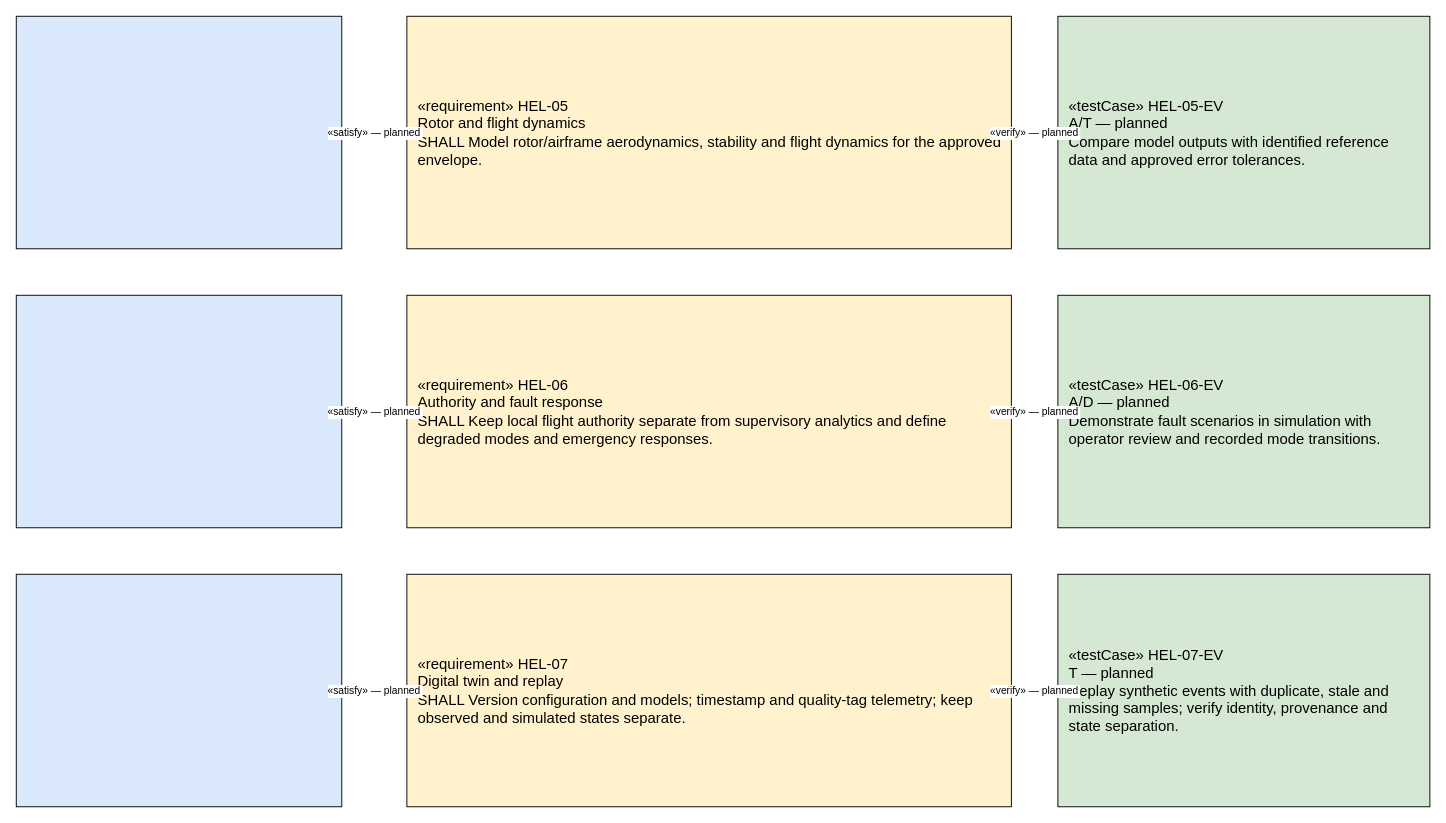
Some shapes in this 1446 by 823 pixel diagram are drawn without their labels. The box of each missing label's shape, as (x1, y1, x2, y2) in pixels:
«block» control Proposed allocation: (15, 294, 342, 528)
«block» flight Proposed allocation: (15, 15, 342, 249)
«block» twin Proposed allocation: (15, 573, 342, 807)
